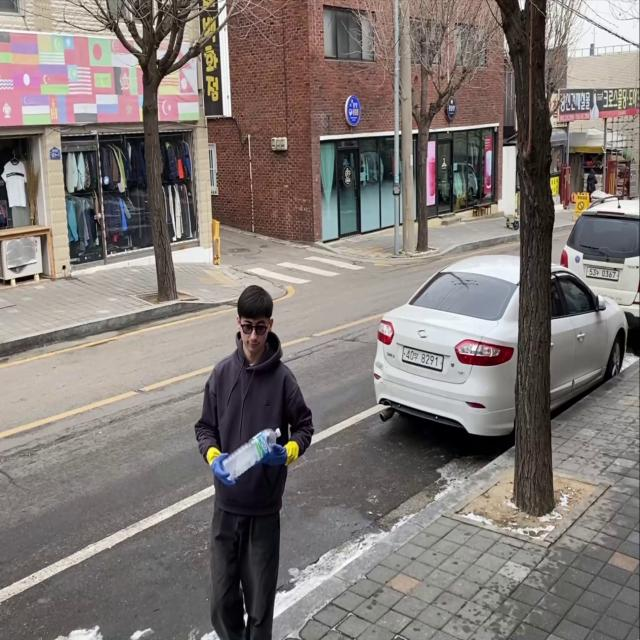gloved_hand: (255, 438, 286, 472), (209, 449, 236, 488)
